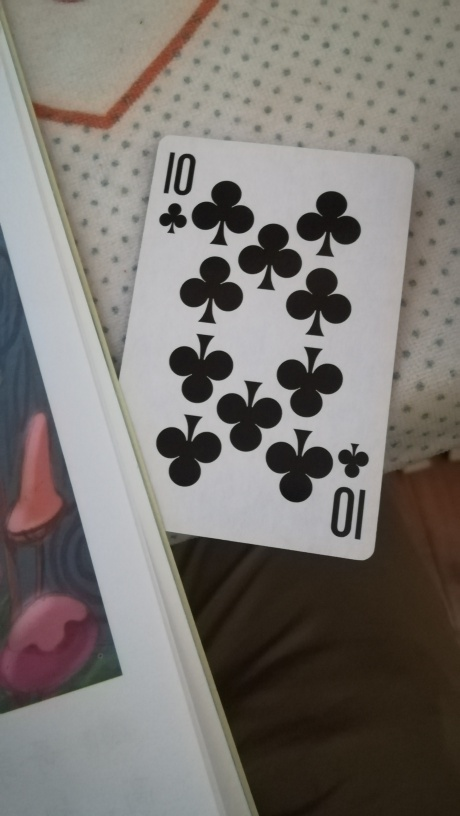mh 10: (118, 133, 413, 560)
